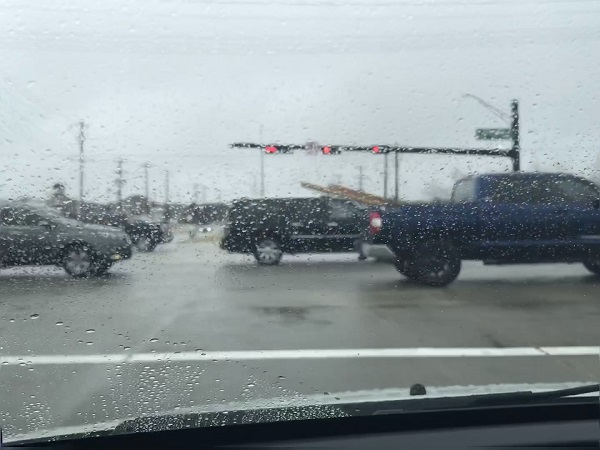car: (222, 197, 389, 266), (5, 200, 132, 278)
traffic light: (262, 143, 280, 156), (368, 145, 384, 155), (320, 145, 333, 157)
truck: (362, 177, 600, 287)
